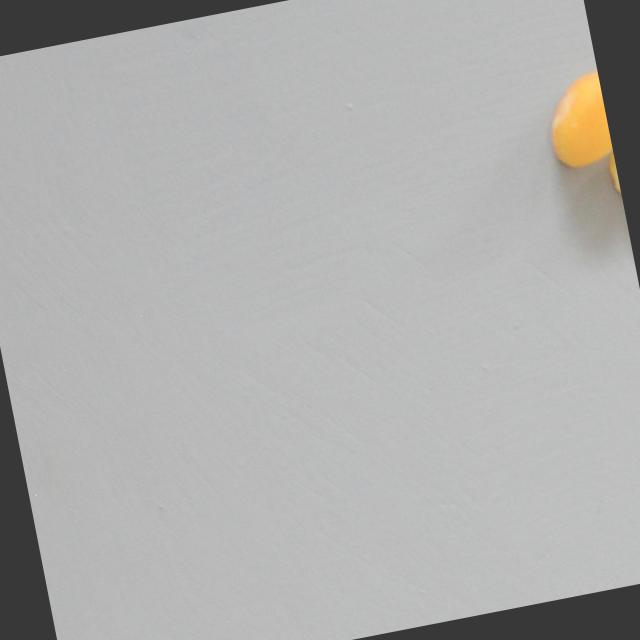estandar: (530, 77, 614, 168)
